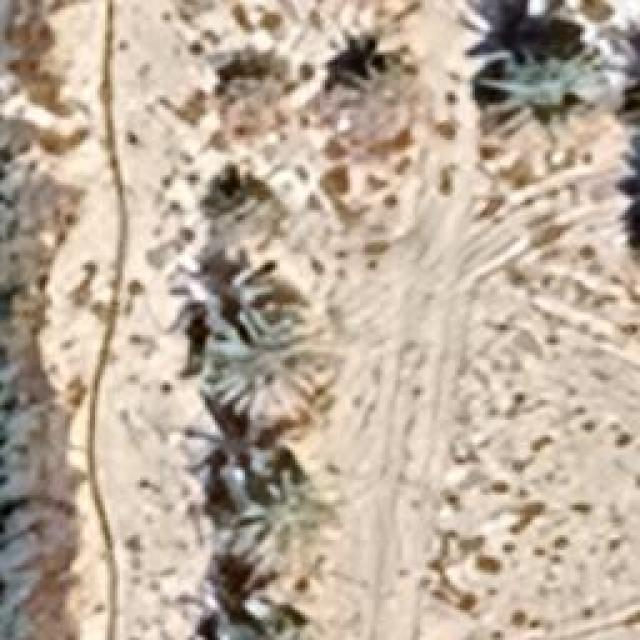PalmTree: (108, 72, 540, 448), (476, 41, 610, 167), (202, 305, 308, 420), (330, 48, 425, 144), (242, 471, 330, 559), (202, 171, 288, 254), (211, 52, 294, 138), (205, 580, 303, 640), (0, 504, 32, 594), (0, 371, 18, 491), (0, 598, 30, 638)
